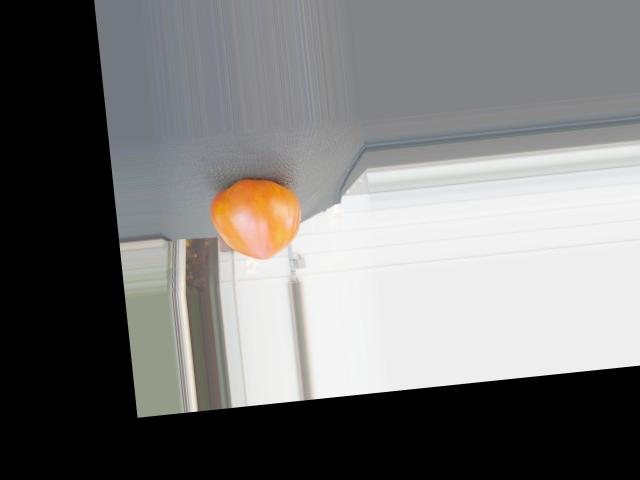tomato: (207, 174, 305, 264)
